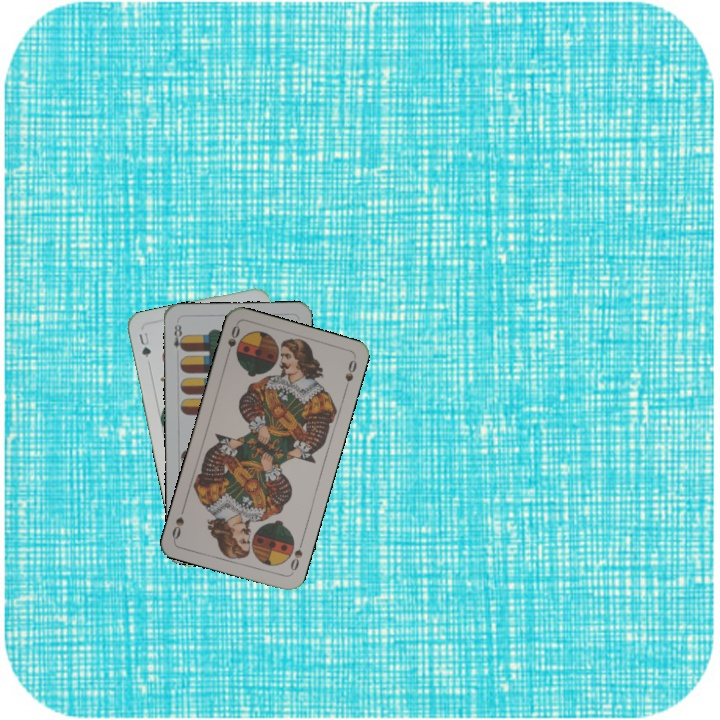E8: (170, 318, 187, 353)
GU: (135, 328, 154, 367)
SO: (222, 321, 242, 361), (286, 536, 306, 576)
